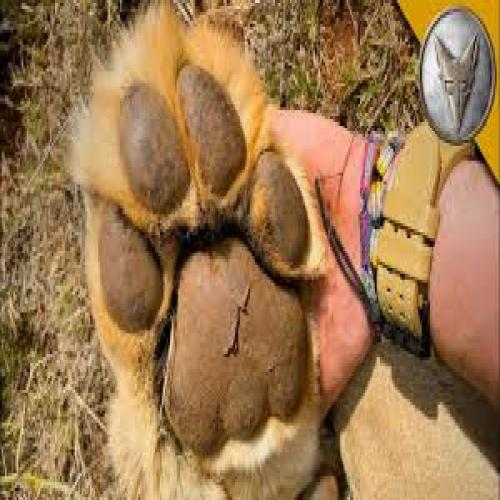lion-endangered: (81, 13, 326, 484)
